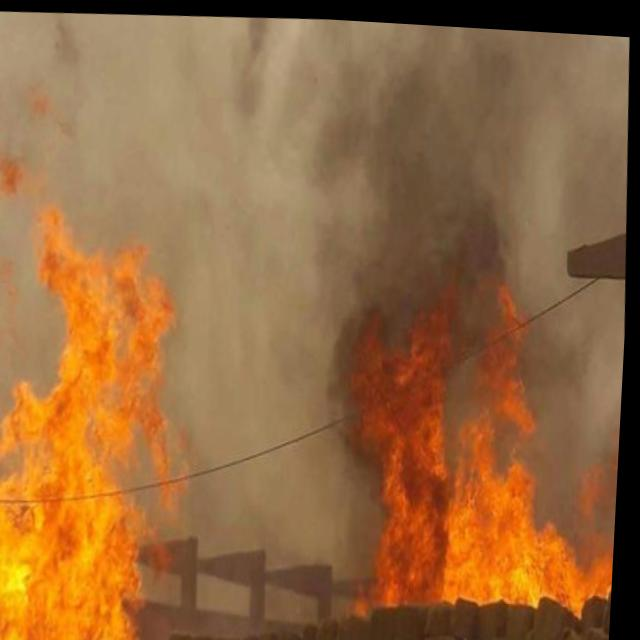fire: (323, 257, 630, 630), (0, 193, 201, 640)
